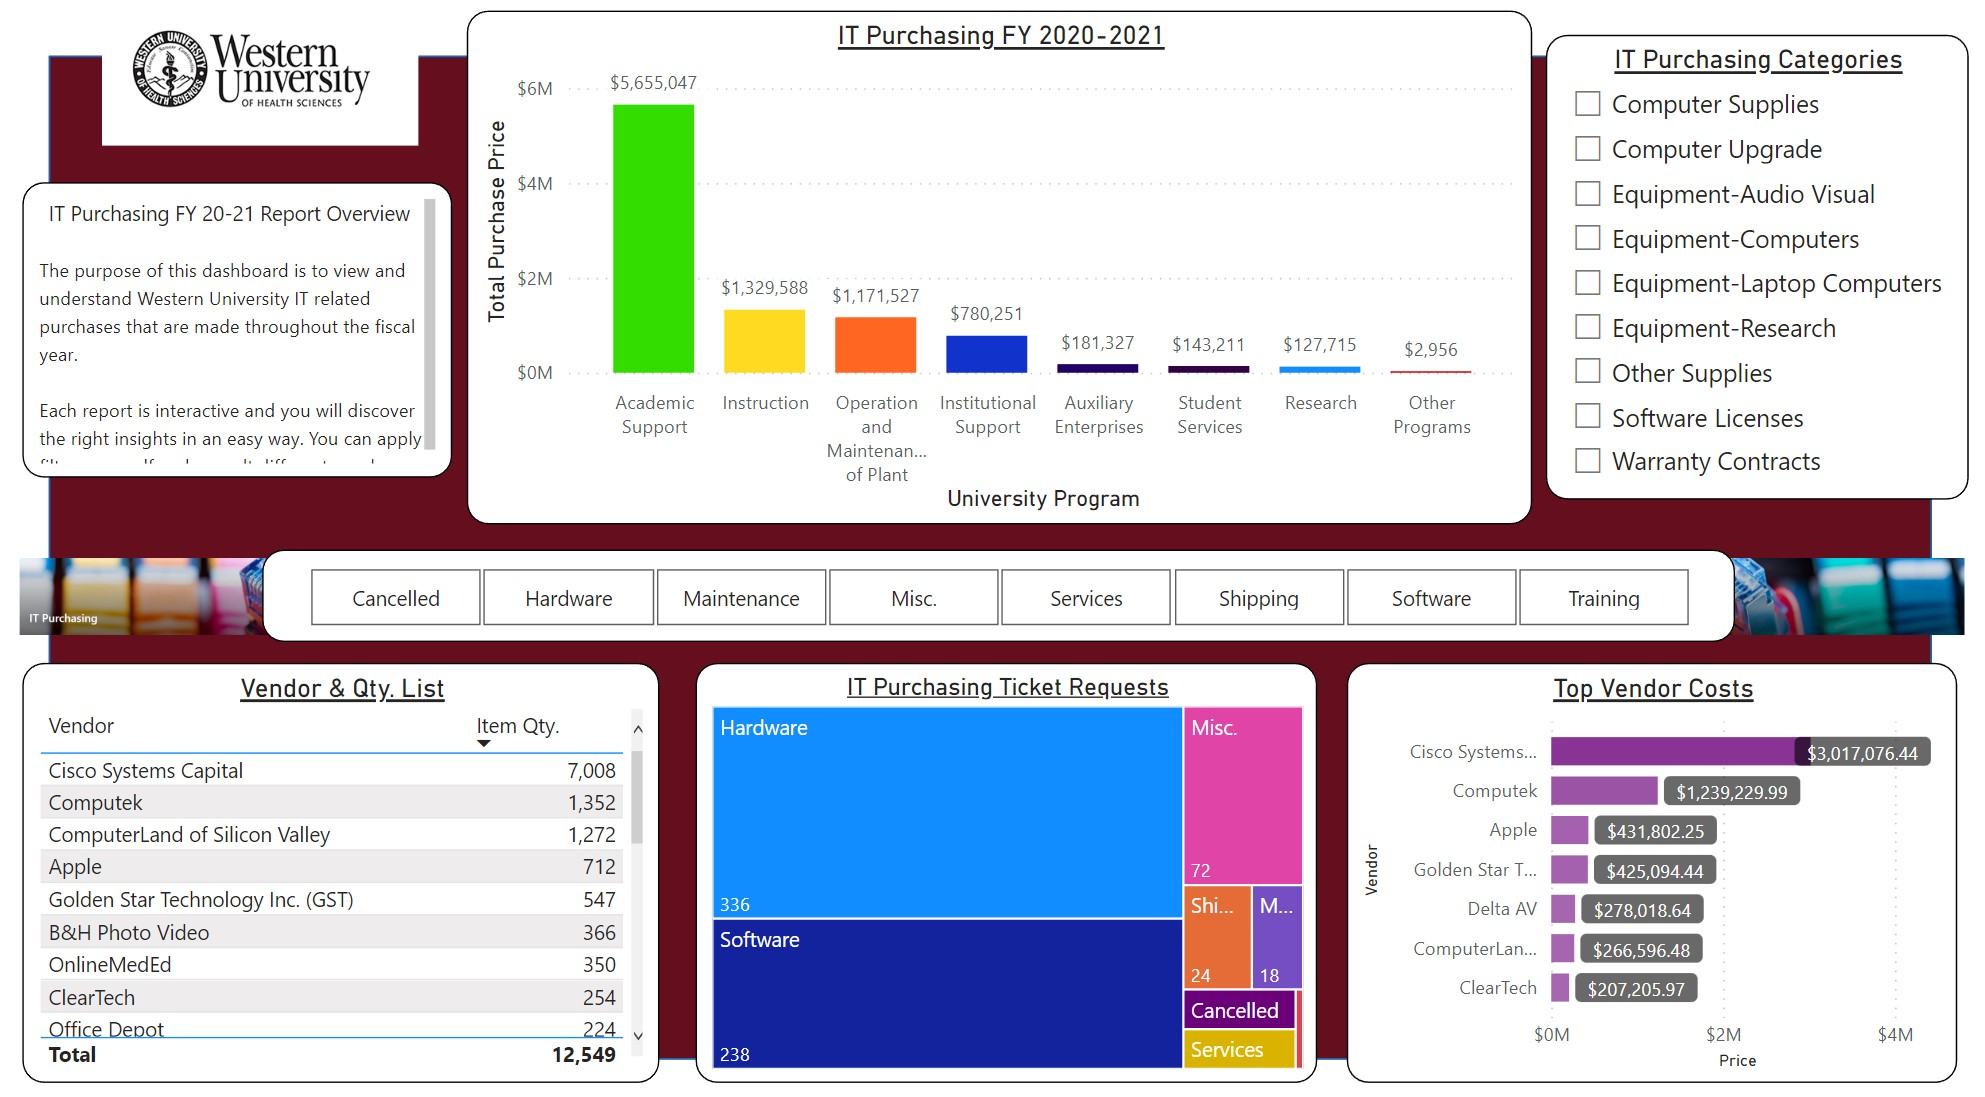

The dashboard page shown, as its layout file describes it:
{"tool":"powerbi","page":{"name":"IT Purchasing","canvas":[1280,720],"ordinal":0},"visuals":[{"type":"shape","box":[27.3,40.4,1222.7,651.8],"z":0},{"type":"lineClusteredColumnComboChart","title":"IT Purchasing FY 2020-2021","fields":{"Category":["University Programs.Program Description"],"Y":["Sum(Table1.Price)"]},"box":[342.9,11.4,631.6,333.7],"z":1000},{"type":"slicer","title":"IT Purchasing Categories","fields":{"Values":["Account.Acct Description"]},"box":[982.9,30.5,276.6,301.7],"z":2000},{"type":"tableEx","title":"Vendor & Qty. List","fields":{"Values":["Table1.Vendor","Sum(Table1.Quantity)"]},"box":[9.9,435,413.7,272.8],"z":3000},{"type":"treemap","title":"IT Purchasing Ticket Requests","fields":{"Group":["IT Category.IT Category"],"Values":["Count(Table1.TDX#)"]},"box":[447.2,435,403.8,272.8],"z":4000},{"type":"clusteredBarChart","title":"Top Vendor Costs","fields":{"Category":["Table1.Vendor"],"Y":["Sum(Table1.Price)"]},"box":[870.1,435,396.2,272.8],"z":5000},{"type":"textbox","box":[10.1,122.5,320,198.2],"z":6000},{"type":"image","box":[17.2,0,294.1,104.1],"z":7000},{"type":"image","box":[0,361.1,329.9,60.2],"z":8000},{"type":"image","box":[949.3,361.1,330.7,60.2],"z":9000},{"type":"slicer","fields":{"Values":["IT Category.IT Category"]},"box":[165.6,361.1,956.5,59.9],"z":10000}]}

Visuals, with their boxes in screenshot pixels (x1, y1, x2, y2), scaled from the page's 1280x720 canvas onto the 1985x1097 screenshot:
shape: <region>42, 62, 1938, 1055</region>
"IT Purchasing FY 2020-2021" lineClusteredColumnComboChart: <region>532, 17, 1511, 526</region>
"IT Purchasing Categories" slicer: <region>1524, 46, 1953, 506</region>
"Vendor & Qty. List" tableEx: <region>15, 663, 657, 1078</region>
"IT Purchasing Ticket Requests" treemap: <region>694, 663, 1320, 1078</region>
"Top Vendor Costs" clusteredBarChart: <region>1349, 663, 1964, 1078</region>
textbox: <region>16, 187, 512, 489</region>
image: <region>27, 0, 483, 159</region>
image: <region>0, 550, 512, 642</region>
image: <region>1472, 550, 1984, 642</region>
slicer - IT Category.IT Category: <region>257, 550, 1740, 641</region>
